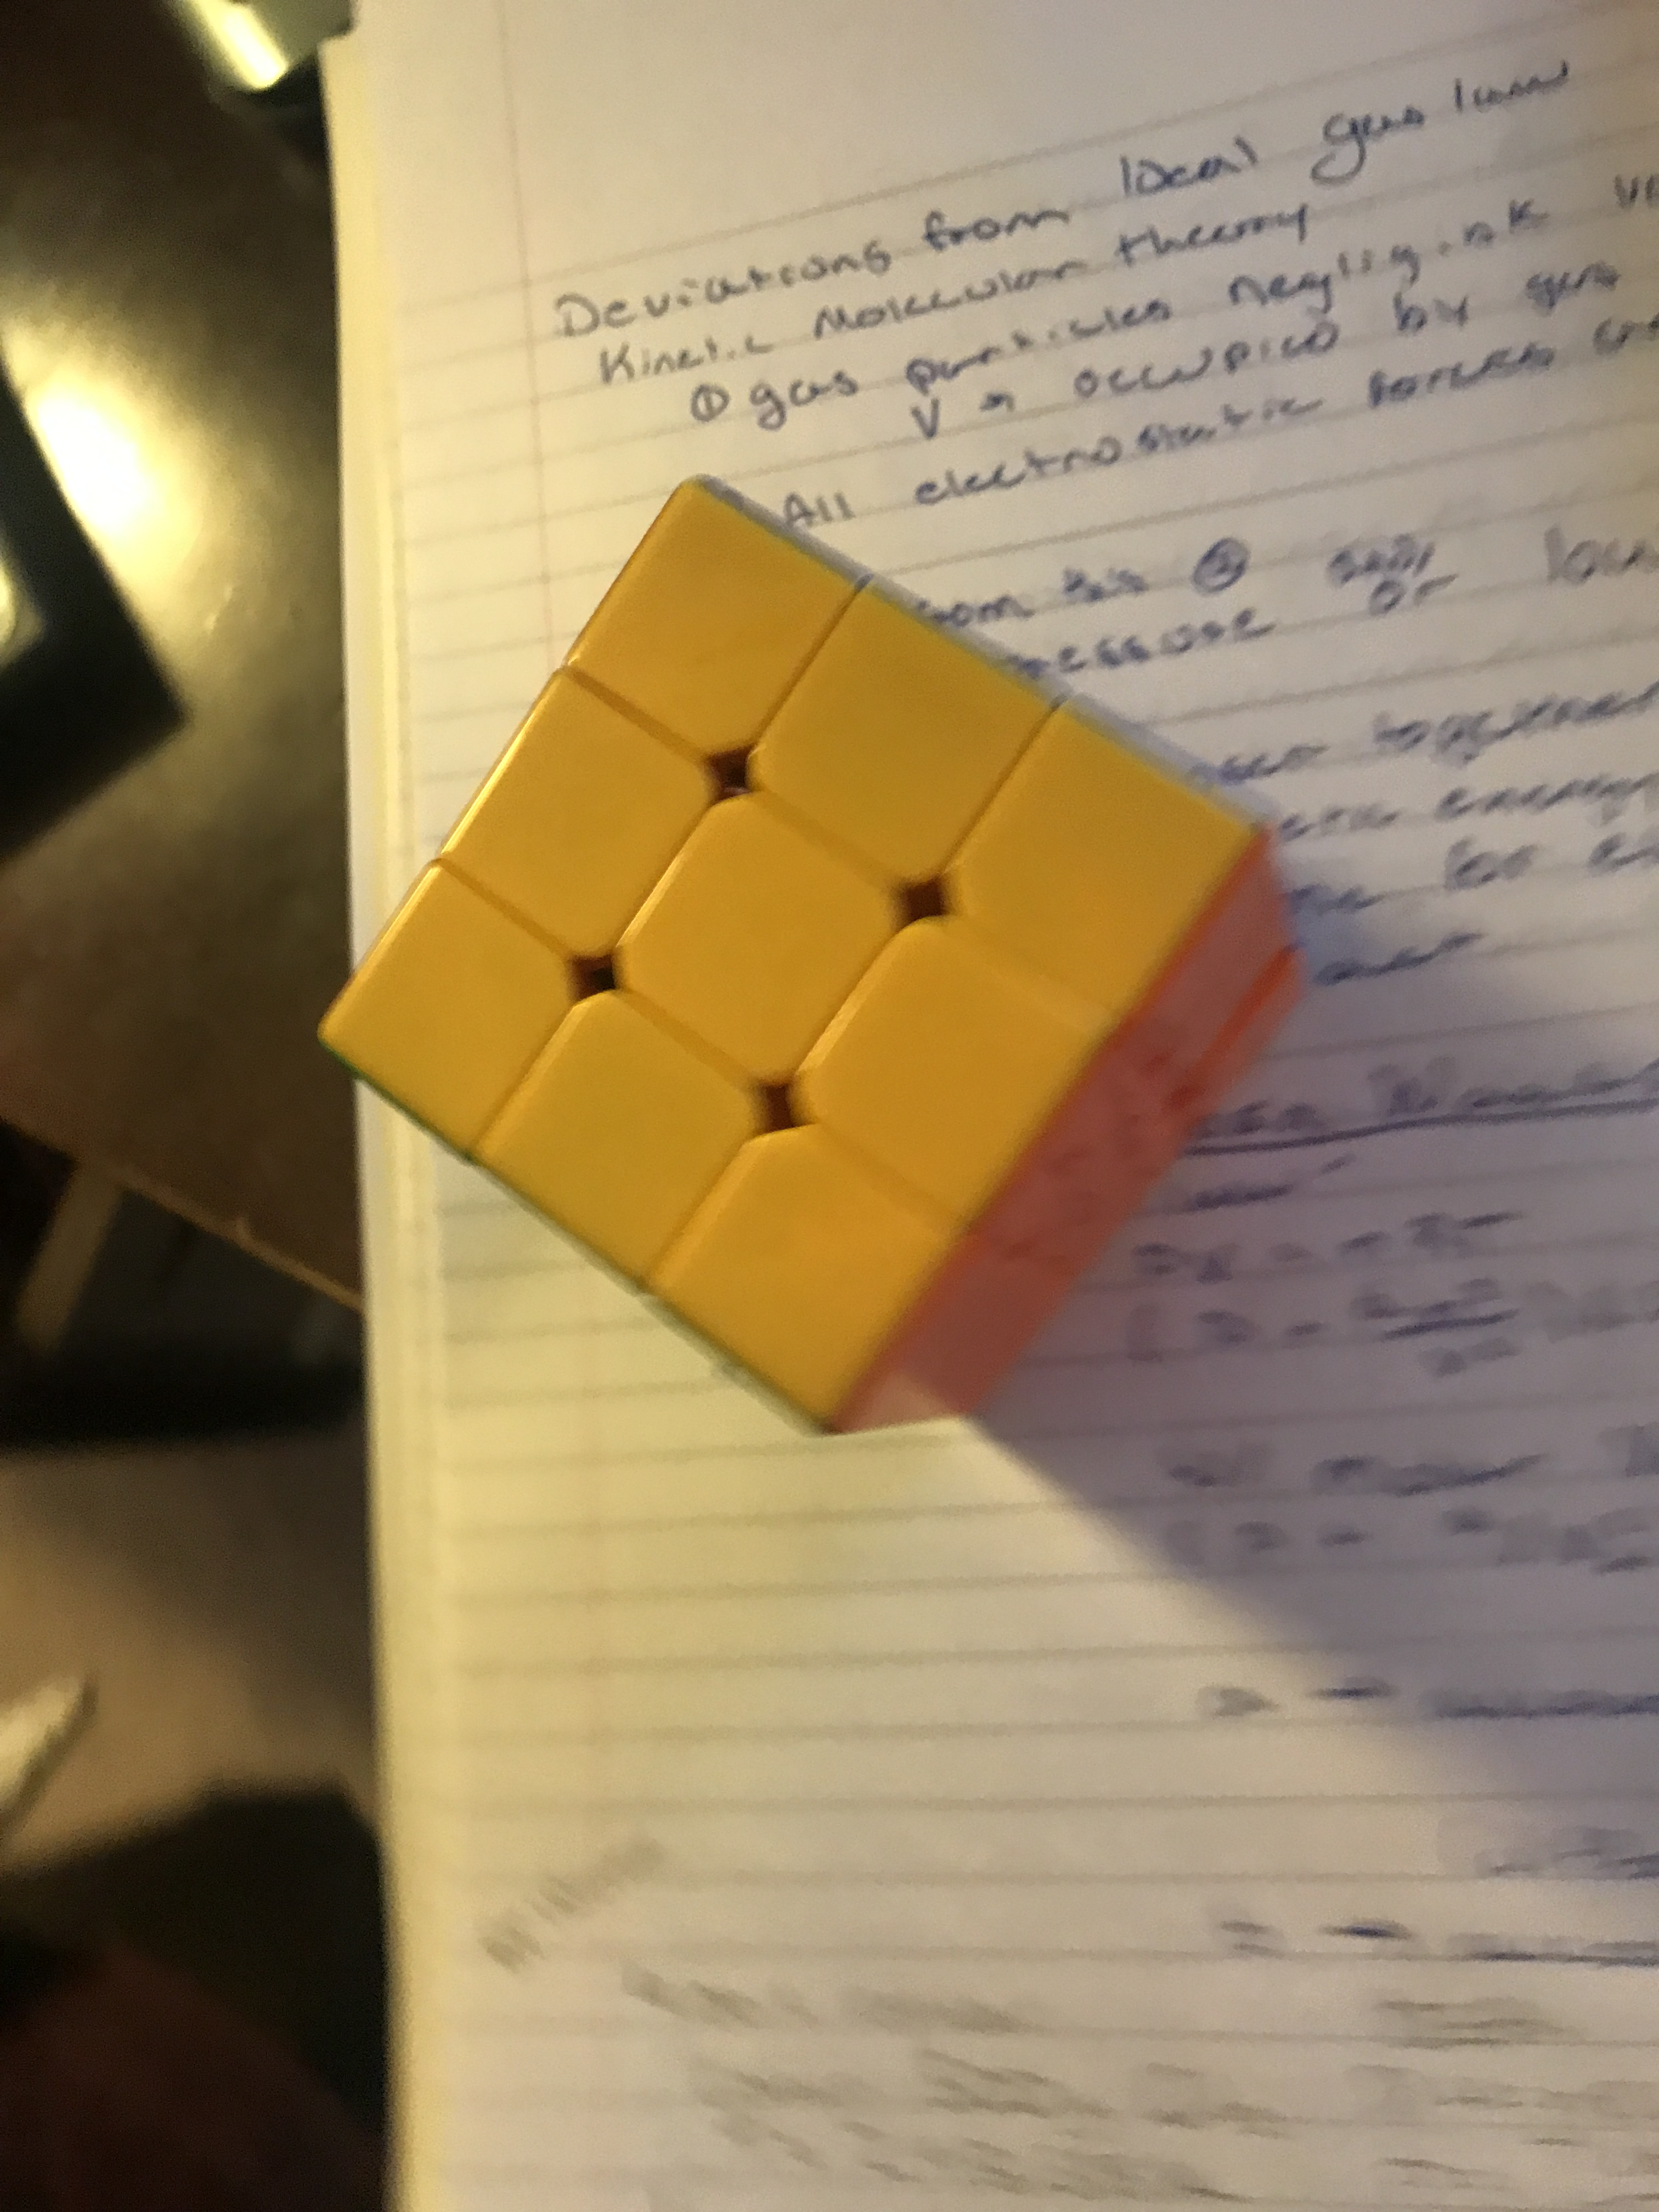rubiks: (326, 475, 1307, 1442)
